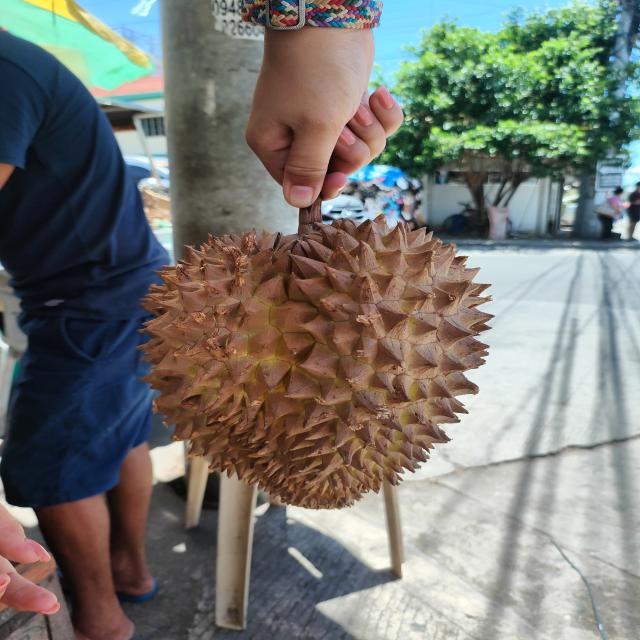mature: (135, 213, 498, 512)
